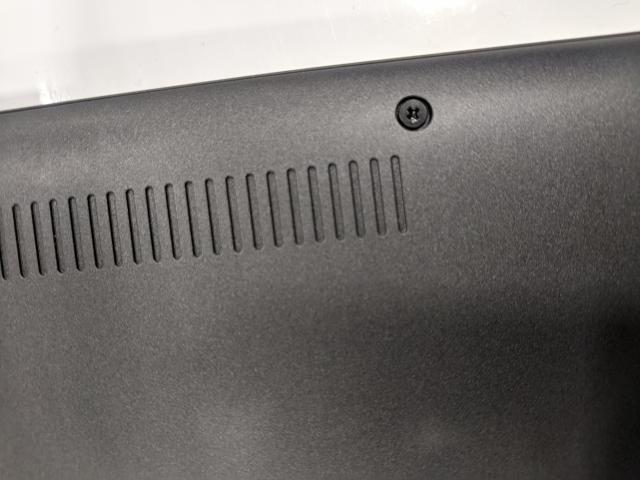CRS: (398, 99, 430, 129)
